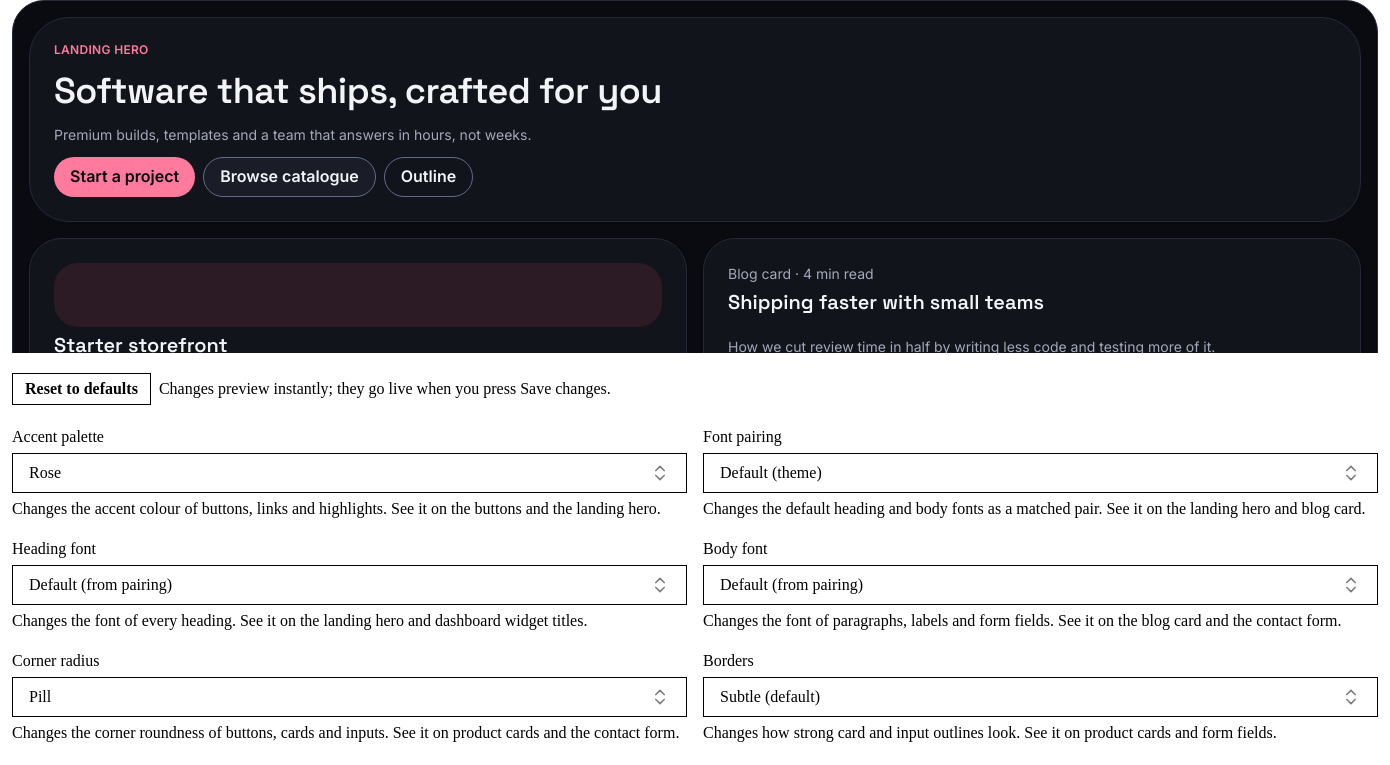
Test: ThemeStudio › reset restores the defaults and every group shows its note
What coordinates should you click on to do the following:
click the button "Reset to defaults"
I would click on:
 (81, 389)
Its box is [12,373,151,405].
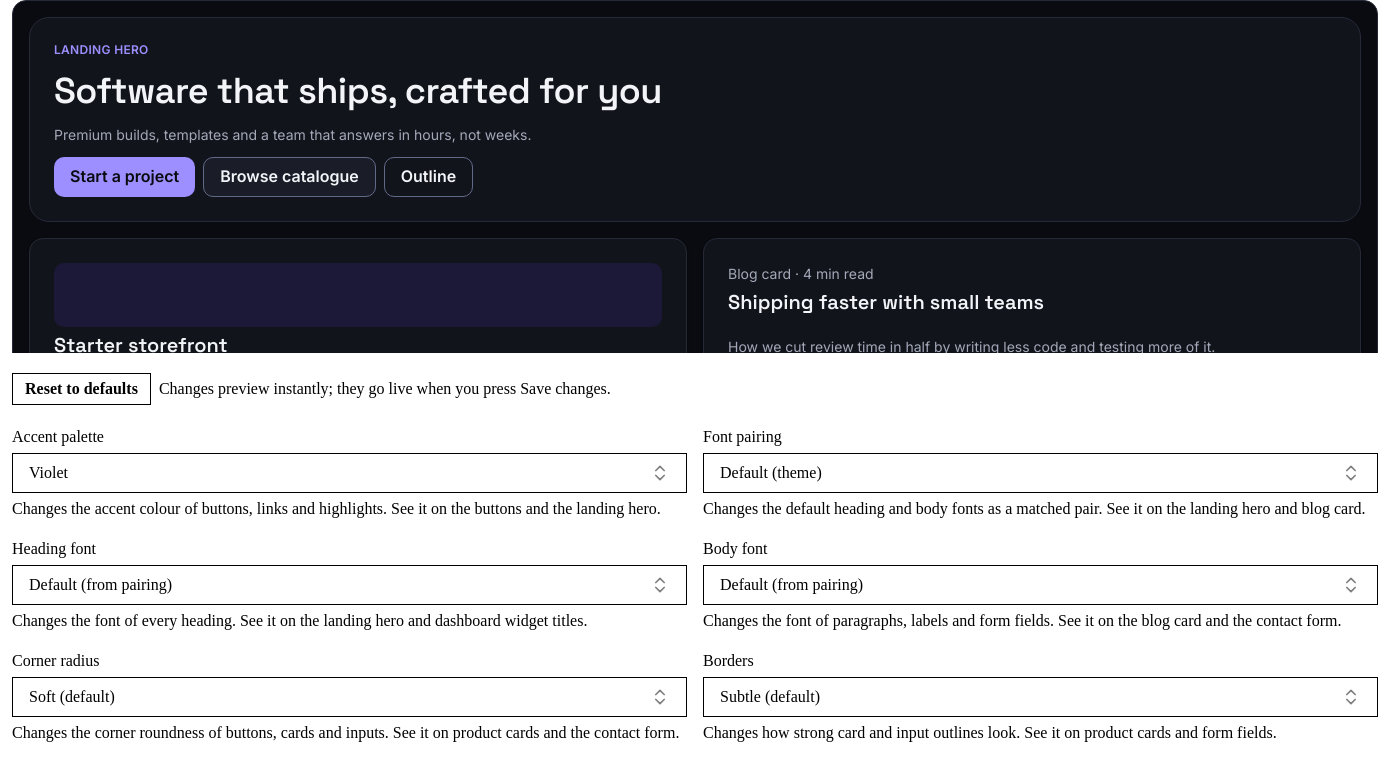
Result: the dropdown named "Accent palette" reads "Violet" at [12,453,687,493]
